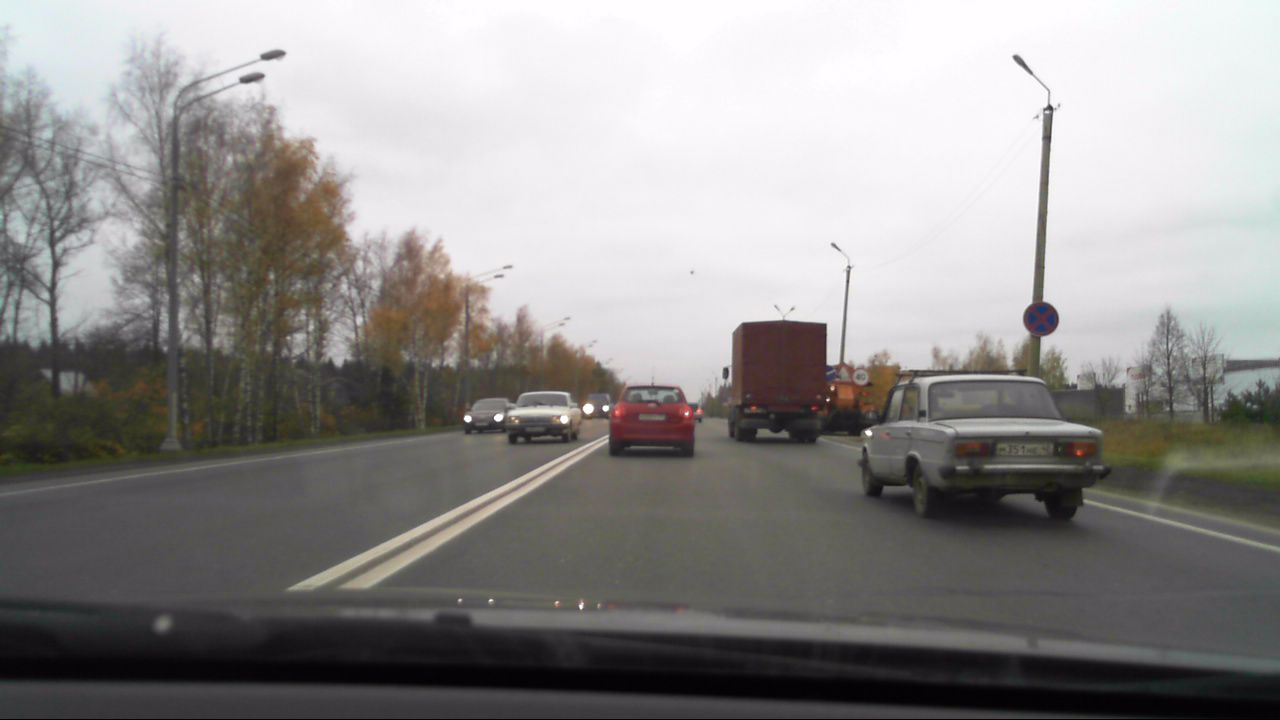No Parking: (1020, 301, 1062, 339)
